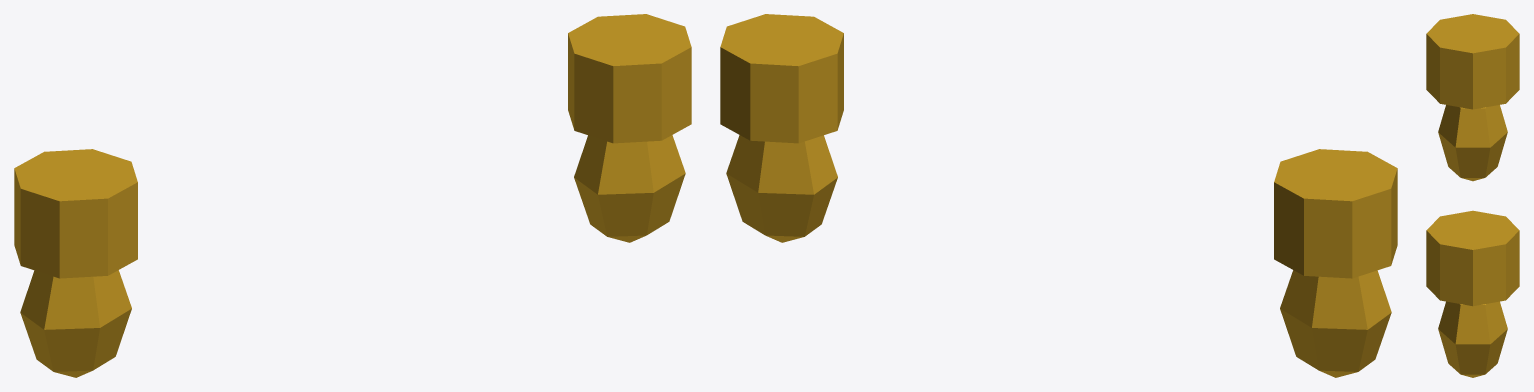
File: cosmetic_gloves_rubber.glb
The picture shows the model from 3 angles, left to right: view 1: azimuth 30°, elevation 25°; view 2: azimuth 150°, elevation 25°; view 3: azimuth 270°, elevation 25°; orthographic projection. The views are drawn at different scales.
Parts seen in each view (by area): view 1: cosmetic_gloves_rubber; view 2: cosmetic_gloves_rubber; view 3: cosmetic_gloves_rubber.
Part boxes in pixels (x1,y1,x2,y2): cosmetic_gloves_rubber: [14, 14, 691, 377]; cosmetic_gloves_rubber: [720, 14, 1397, 377]; cosmetic_gloves_rubber: [1426, 14, 1519, 377].
Bounding box in the file's own units: 0.72 × 0.21 × 0.12.
1 material, 1 textured.
